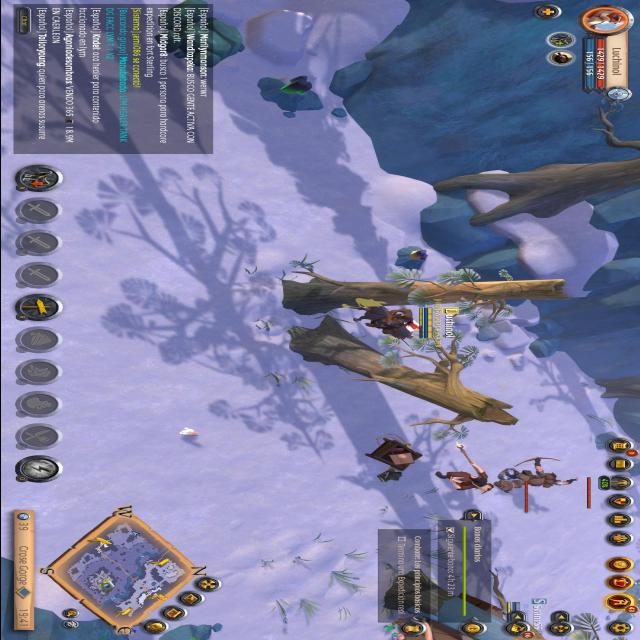piedra_cobre: (382, 244, 437, 274)
